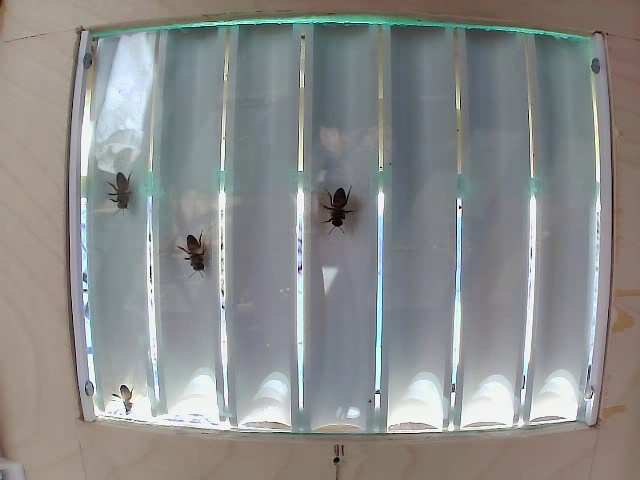bee: (170, 235, 224, 288), (316, 182, 353, 243), (96, 172, 148, 215)
